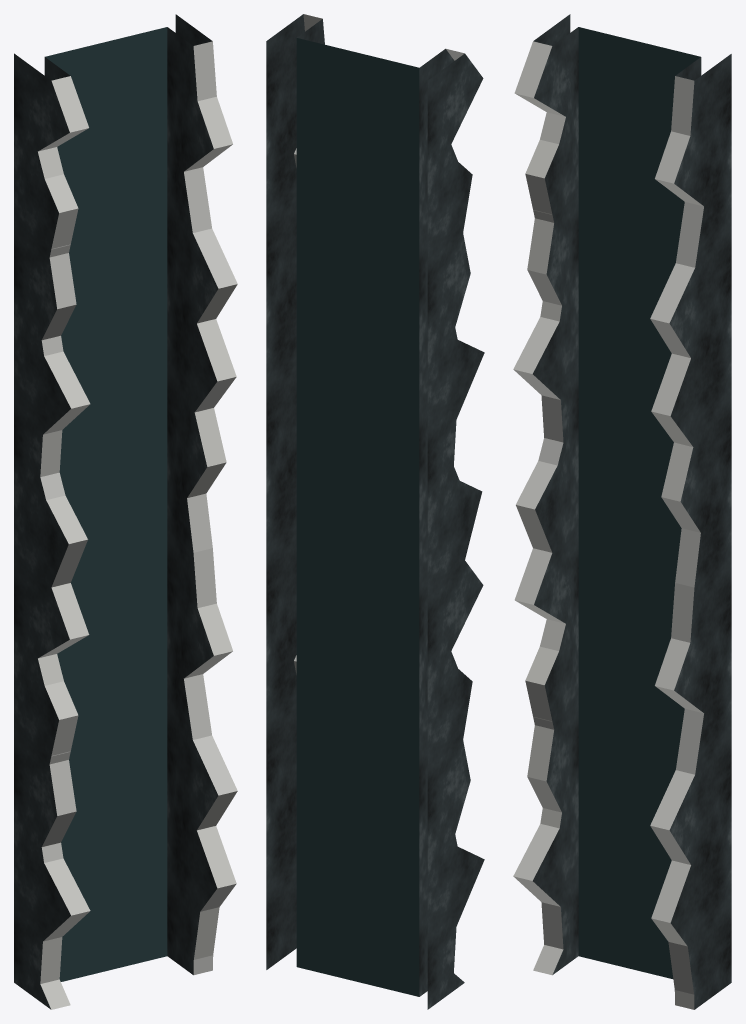
The model's file is OT_048_broken_wall_vert_deco_var4.glb.
The picture shows the model from 3 angles, left to right: view 1: azimuth 30°, elevation 25°; view 2: azimuth 150°, elevation 25°; view 3: azimuth 330°, elevation 25°; orthographic projection.
Parts seen in each view (by area): view 1: broken_wall, broken_wall.002; view 2: broken_wall, broken_wall.002; view 3: broken_wall, broken_wall.002.
Part boxes in pixels (left/top/right/bottom): broken_wall: left=14, top=14, right=237, bottom=587; broken_wall.002: left=14, top=534, right=237, bottom=1009; broken_wall: left=266, top=14, right=484, bottom=586; broken_wall.002: left=266, top=526, right=484, bottom=1009; broken_wall: left=513, top=14, right=731, bottom=587; broken_wall.002: left=513, top=534, right=731, bottom=1009.
Bounding box in the file's own units: 0.75 × 4.12 × 0.5008.
Materials: 3 (1 with a texture image).
